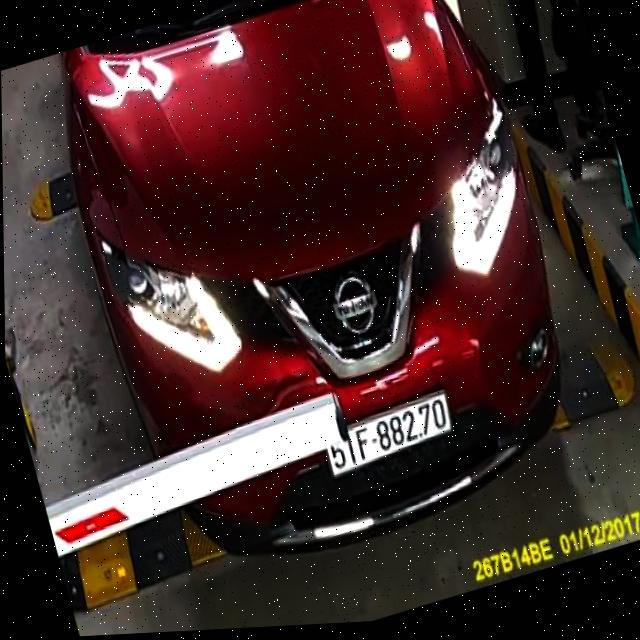car: (35, 0, 609, 603)
plate: (315, 393, 460, 479)
